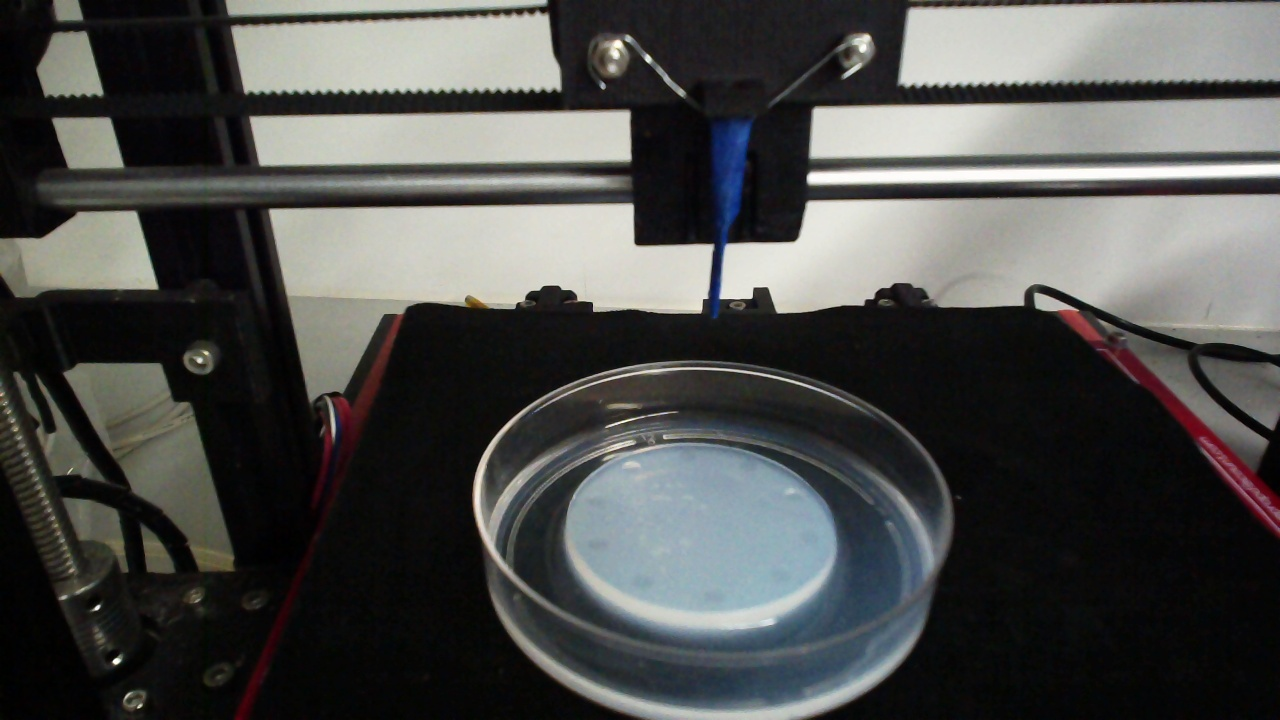groove: (701, 587, 730, 606), (768, 566, 792, 585), (581, 492, 607, 508), (629, 576, 655, 592), (798, 527, 820, 545), (782, 488, 806, 504), (737, 458, 760, 473), (583, 537, 607, 551), (677, 448, 697, 464), (620, 461, 641, 476)
needle: (709, 119, 752, 322)
